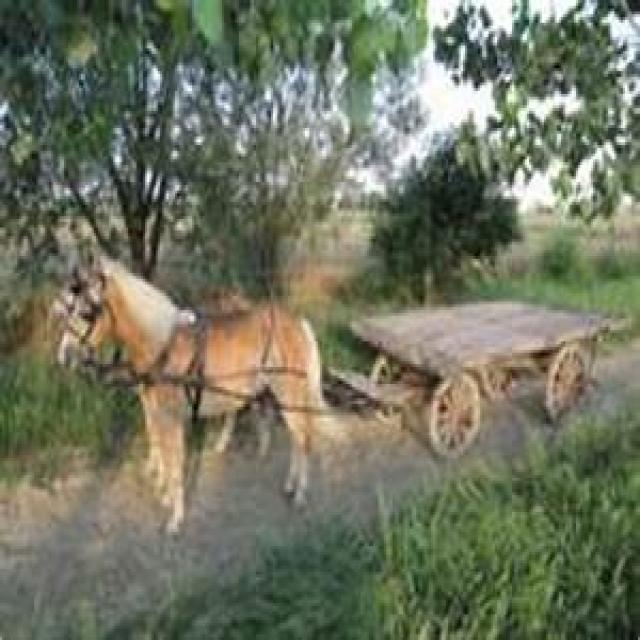horse: (58, 259, 329, 503)
